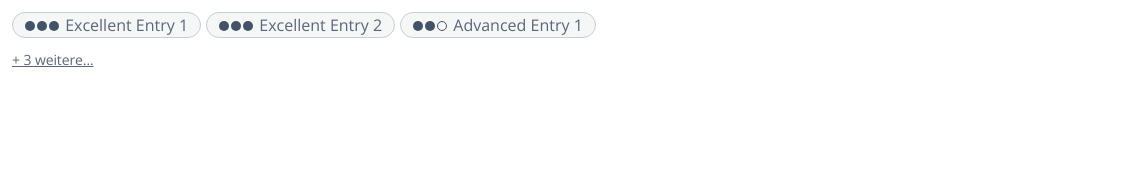
Test: should hide 3 skills in the beginning
The width and height of the screenshot is (1146, 172).
expect the element that starts with "Excellent Entry 1" is shown: met, box [12,12,596,69]
expect the number of buttons is 3: met, box [12,12,201,38]; [206,12,395,38]; [400,12,596,38]
Click the element showing "+ 3 weitere...". click: (53, 60)
box: [12,50,94,69]
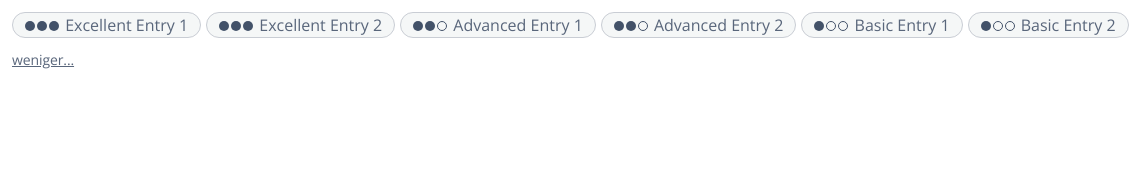
expect the element showing "weniger..." is shown: met, box [12,50,74,69]
expect the number of buttons is 6: met, box [12,12,201,38]; [206,12,395,38]; [400,12,596,38]; [601,12,796,38]; [801,12,962,38]; [968,12,1129,38]
